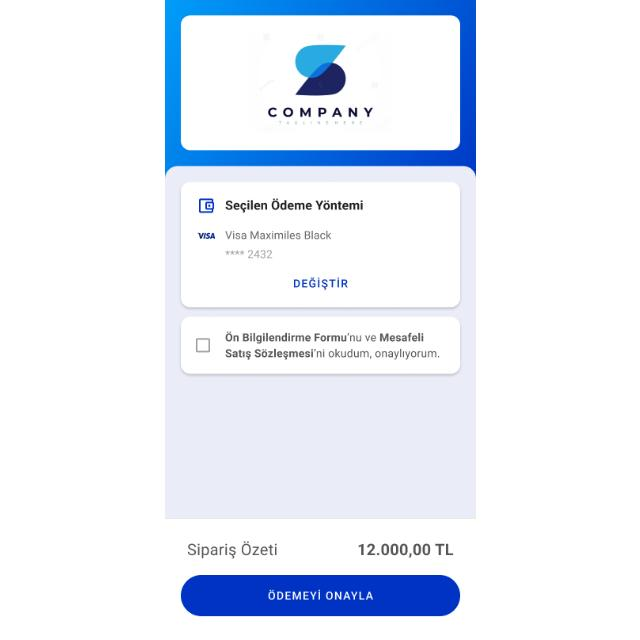QLabel: (180, 576, 460, 616), (222, 198, 364, 214), (222, 331, 346, 345), (184, 541, 278, 559), (356, 542, 452, 558), (265, 588, 373, 602), (223, 229, 331, 241), (316, 349, 440, 359), (290, 276, 348, 292), (223, 348, 315, 358), (224, 246, 276, 262), (378, 332, 424, 342), (349, 335, 375, 343)
VCard: (164, 166, 476, 518), (180, 16, 460, 150), (180, 182, 460, 308), (180, 316, 460, 376)
VCheckbox: (191, 334, 211, 356)
VFooter: (164, 520, 476, 640)
VImg: (254, 40, 380, 132), (192, 196, 218, 216), (191, 228, 219, 245)
